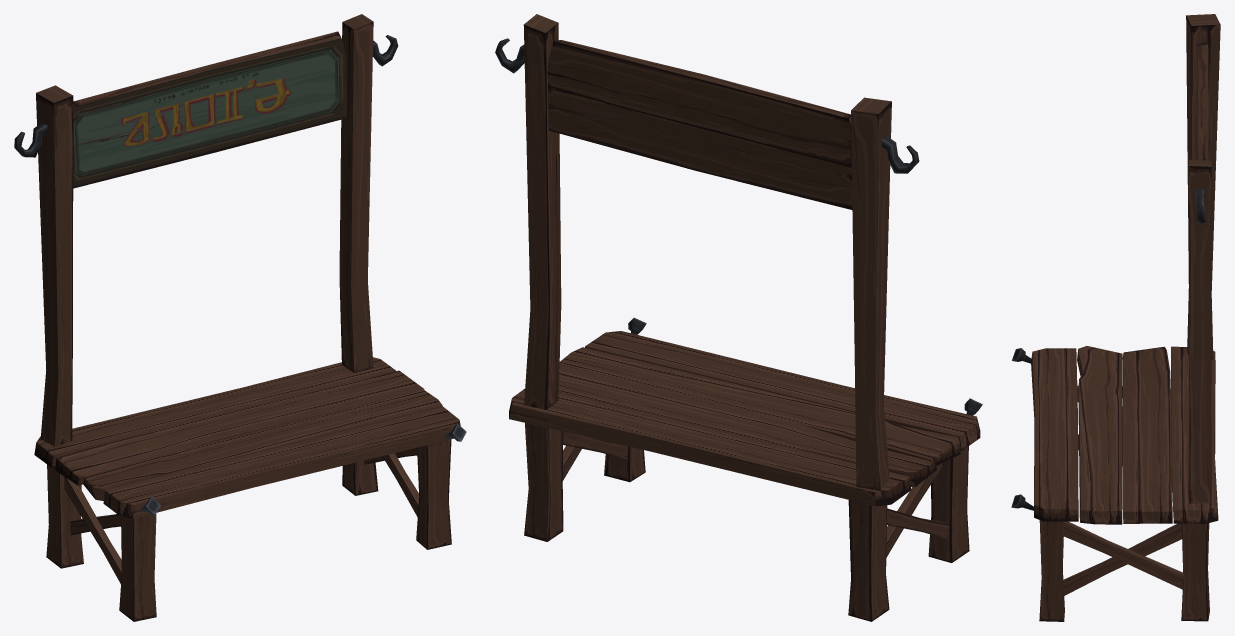
File: SM_PROP_marketstall_city_01.fbx
3 renders of one model, left to right at view 1: azimuth 30°, elevation 25°; view 2: azimuth 150°, elevation 25°; view 3: azimuth 270°, elevation 25°, orthographic. The views are drawn at different scales.
Visible parts, largest first — view 1: SM_PROP_marketstall_city_01; view 2: SM_PROP_marketstall_city_01; view 3: SM_PROP_marketstall_city_01.
Part boxes in pixels (x1,y1,x2,y2): SM_PROP_marketstall_city_01: (14, 14, 466, 621); SM_PROP_marketstall_city_01: (495, 14, 982, 621); SM_PROP_marketstall_city_01: (1011, 14, 1220, 621).
Size of the model in its own units: 247 by 288 by 120.
